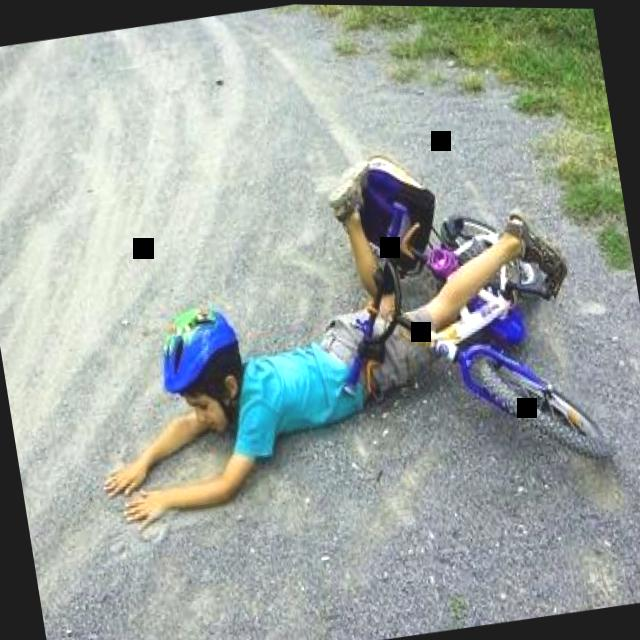Fall-Detected: (61, 107, 578, 544)
